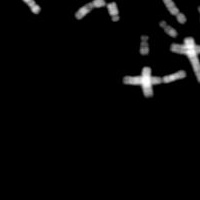chromosome: (123, 70, 187, 84), (185, 37, 200, 82), (75, 0, 106, 18), (162, 0, 186, 23), (141, 66, 154, 97), (171, 41, 200, 54), (16, 0, 41, 14), (160, 22, 177, 37), (108, 2, 120, 21), (140, 36, 149, 55), (198, 6, 200, 24), (199, 0, 200, 14)
